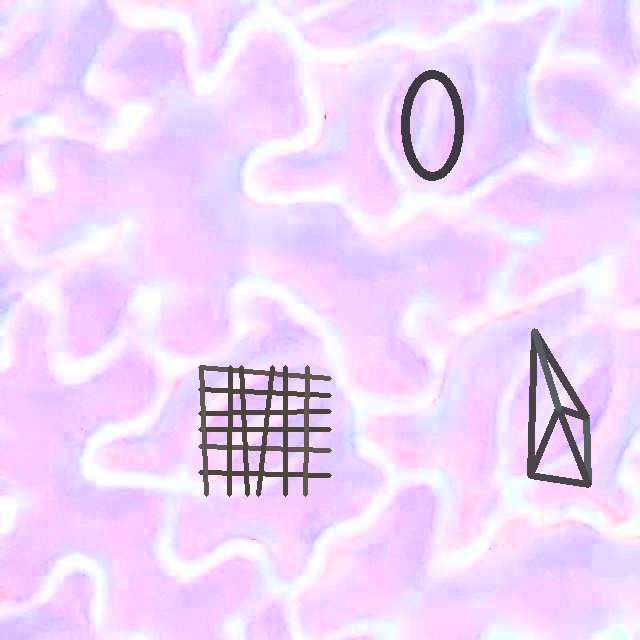open: (198, 365, 331, 496), (527, 328, 589, 487), (401, 69, 464, 180)
